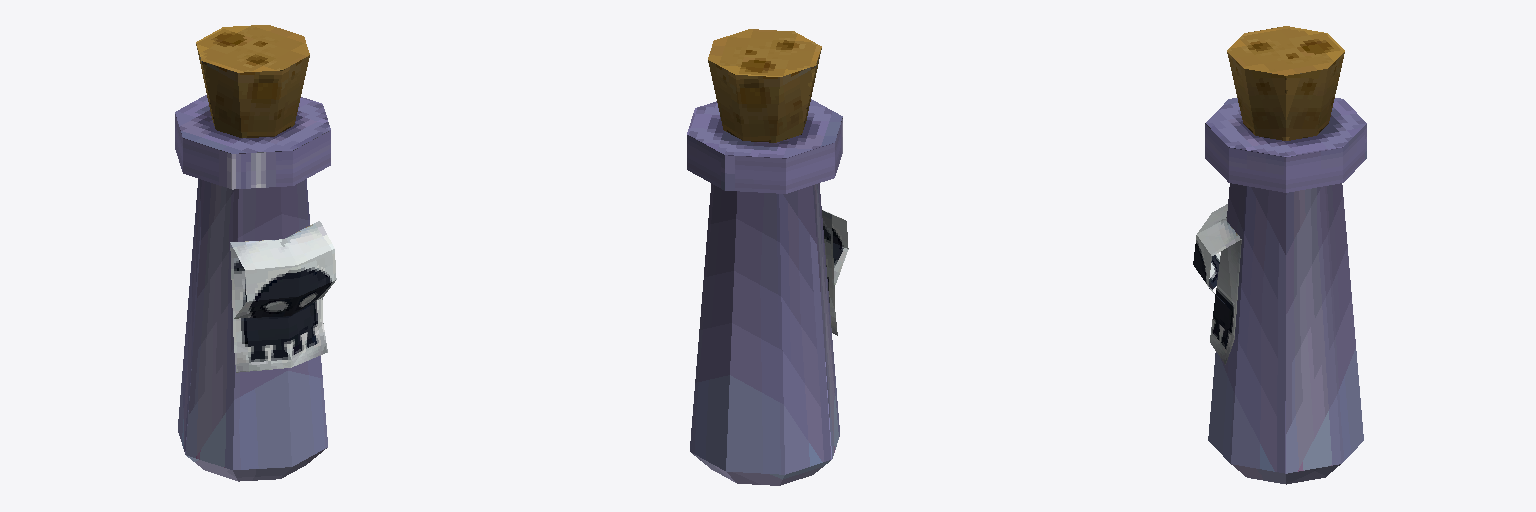
The picture shows the model from 3 angles: view 1: azimuth 30°, elevation 25°; view 2: azimuth 150°, elevation 25°; view 3: azimuth 270°, elevation 25°; orthographic projection.
Visible parts, largest first — view 1: poison_vial; view 2: poison_vial; view 3: poison_vial.
Part boxes in pixels (x1,y1,x2,y2): poison_vial: (175, 25, 336, 481); poison_vial: (687, 29, 848, 485); poison_vial: (1193, 26, 1366, 484).
Size of the model in its own units: 1.61 by 4.51 by 1.73.
1 materials, 1 textured.